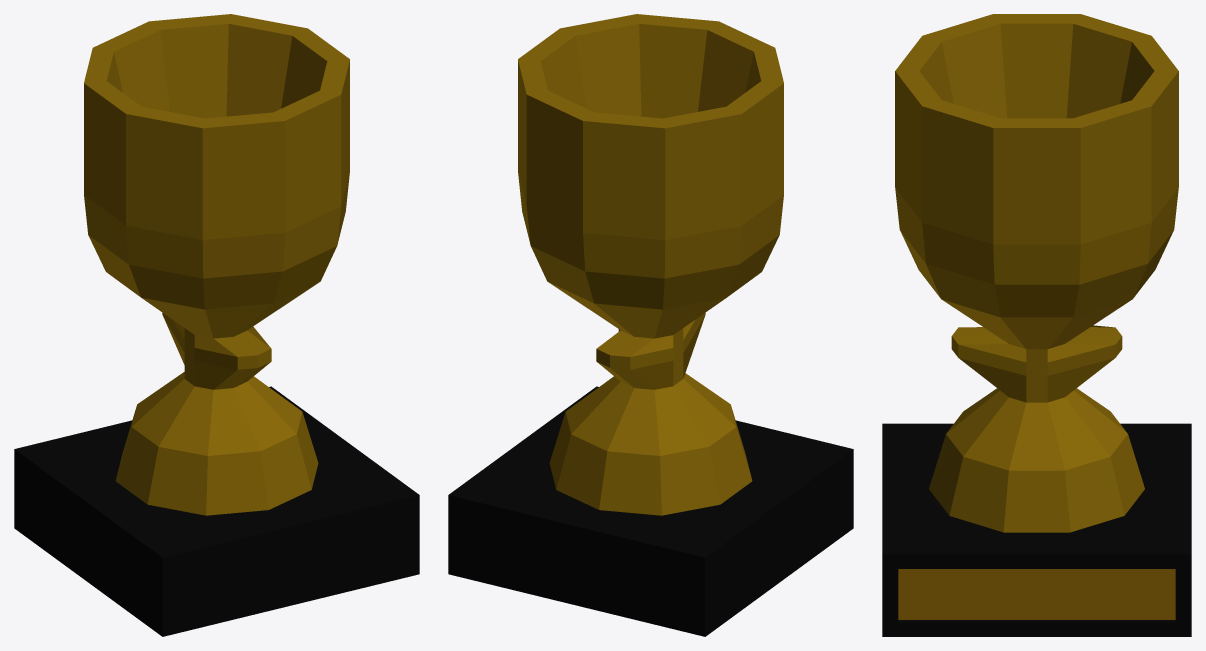
The model's file is Trophy.fbx.
3 views of the same model, side by side, from view 1: azimuth 30°, elevation 25°; view 2: azimuth 150°, elevation 25°; view 3: azimuth 270°, elevation 25° (orthographic). The views are drawn at different scales.
Visible parts, largest first — view 1: Circle.003; view 2: Circle.003; view 3: Circle.003.
Part boxes in pixels (x1=…): Circle.003: x1=14, y1=14, x2=419, y2=636; Circle.003: x1=448, y1=14, x2=853, y2=636; Circle.003: x1=882, y1=14, x2=1191, y2=636.
Size of the model in its own units: 282 by 504 by 282.
